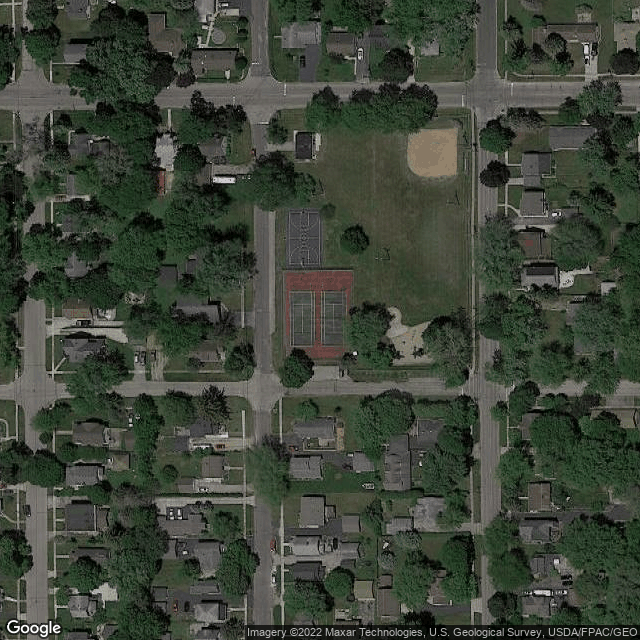Court: (286, 290, 315, 348), (320, 289, 348, 347)
